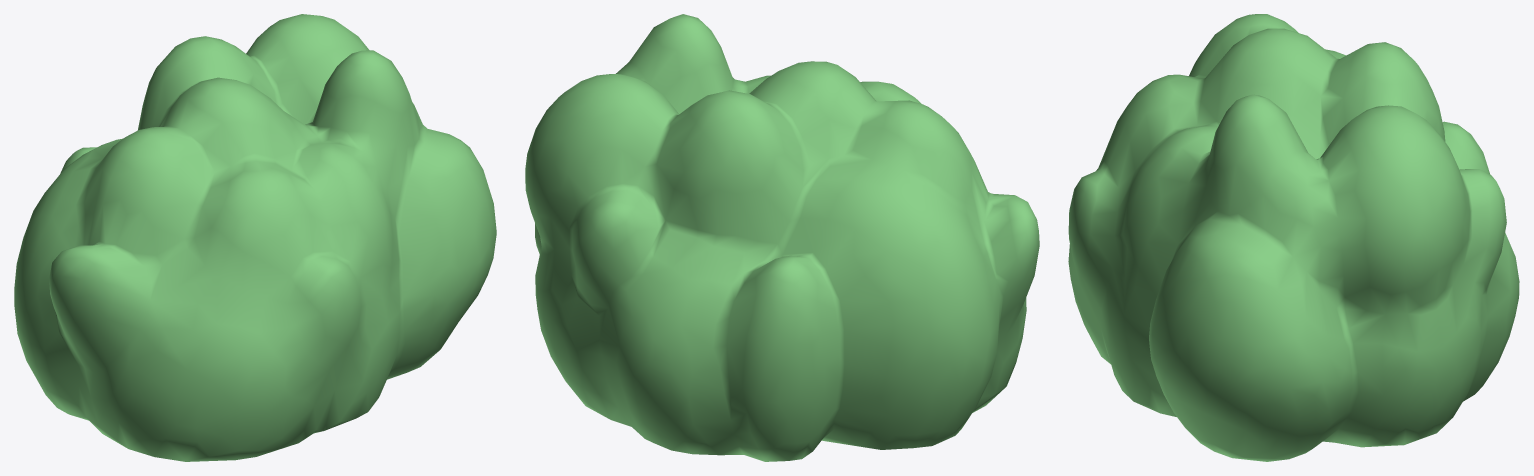
The model's file is Bush.fbx.
3 renders of one model, left to right at view 1: azimuth 30°, elevation 25°; view 2: azimuth 150°, elevation 25°; view 3: azimuth 270°, elevation 25°, orthographic. The views are drawn at different scales.
Parts seen in each view (by area): view 1: Bush1_Group8740; view 2: Bush1_Group8740; view 3: Bush1_Group8740.
Boxes of the visible parts, box(x1,y1,x2,y2) form: Bush1_Group8740: box(14, 14, 496, 461); Bush1_Group8740: box(525, 14, 1039, 461); Bush1_Group8740: box(1068, 14, 1519, 461).
Bounding box in the file's own units: 5.06 × 3.34 × 4.1.
